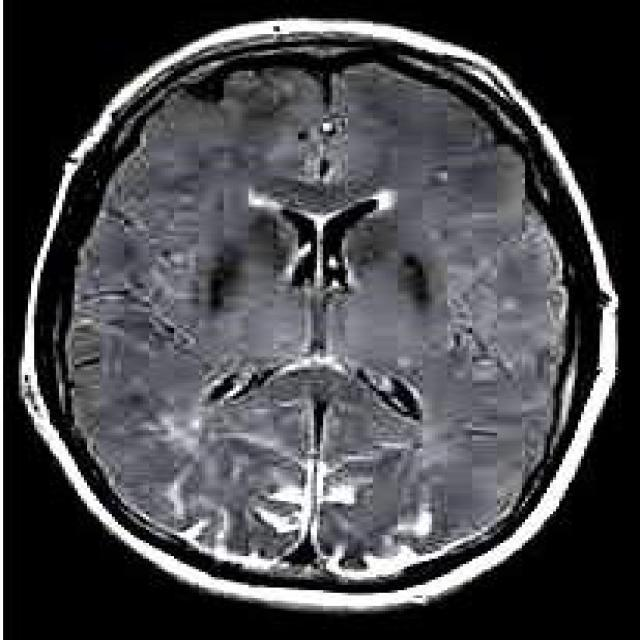notumor: (19, 21, 615, 606)
